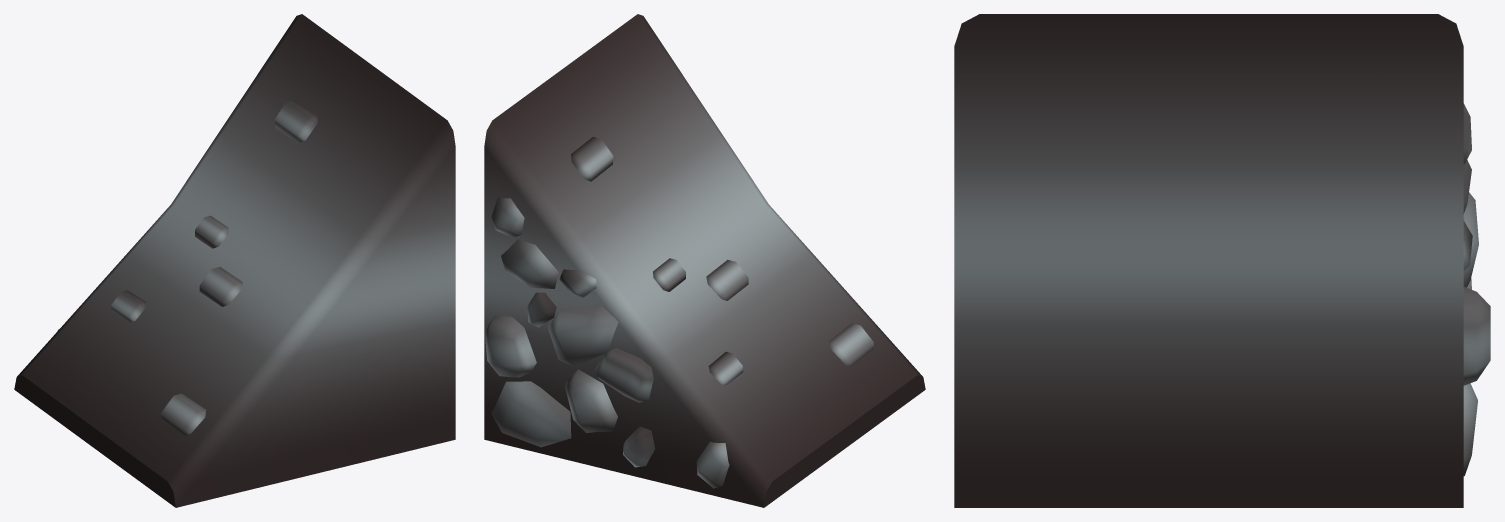
File: SM_Env_slide_01.fbx
The picture shows the model from 3 angles, left to right: view 1: azimuth 30°, elevation 25°; view 2: azimuth 150°, elevation 25°; view 3: azimuth 270°, elevation 25°; orthographic projection. The views are drawn at different scales.
Visible parts, largest first — view 1: slide_PH; view 2: slide_PH; view 3: slide_PH.
Boxes of the visible parts, x1,y1,x2,y2 form: slide_PH: (14,14,455,507); slide_PH: (484,14,925,507); slide_PH: (954,14,1490,507).
Size of what is drawn, in the model's own units: 300 by 322 by 316.
